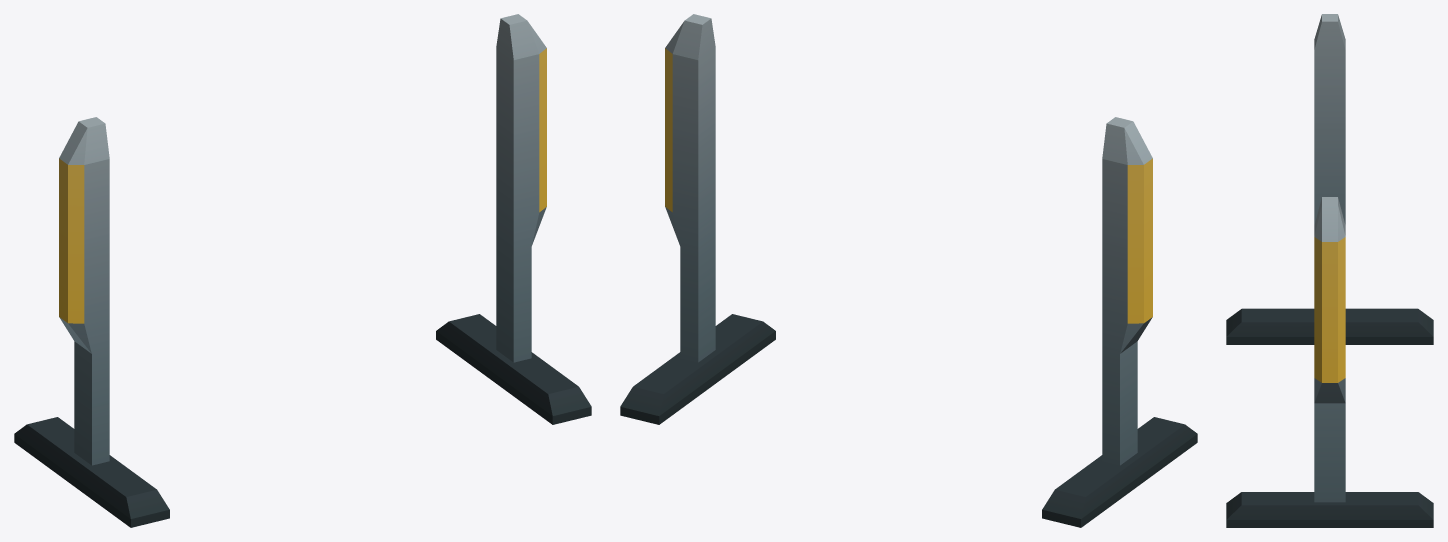
Rendered from Barriaer_006.fbx.
3 views of the same model, side by side, from view 1: azimuth 30°, elevation 25°; view 2: azimuth 150°, elevation 25°; view 3: azimuth 270°, elevation 25° (orthographic). The views are drawn at different scales.
Parts seen in each view (by area): view 1: Barriaer_006; view 2: Barriaer_006; view 3: Barriaer_006.
Boxes of the visible parts, x1,y1,x2,y2 form: Barriaer_006: (14, 14, 591, 527); Barriaer_006: (620, 14, 1197, 527); Barriaer_006: (1226, 14, 1433, 527).
Bounding box in the file's own units: 142 × 60 × 102.
